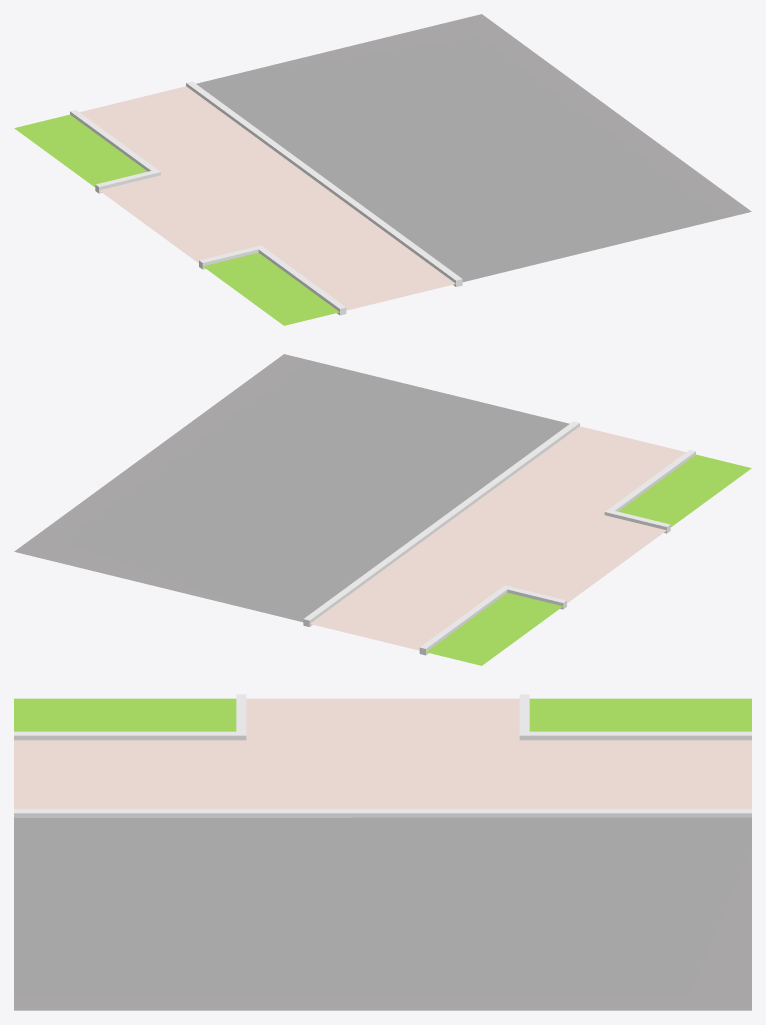
Rendered from building_platform_004.glb.
3 renders of one model, top to bottom at view 1: azimuth 30°, elevation 25°; view 2: azimuth 150°, elevation 25°; view 3: azimuth 270°, elevation 25°, orthographic. The views are drawn at different scales.
Parts seen in each view (by area): view 1: building_platform_004; view 2: building_platform_004; view 3: building_platform_004.
Boxes of the visible parts, x1,y1,x2,y2 form: building_platform_004: [14, 14, 751, 325]; building_platform_004: [14, 354, 751, 665]; building_platform_004: [14, 694, 751, 1010].
Size of the model in its own units: 15 by 0.2 by 15.
Materials: 1 (1 with a texture image).
